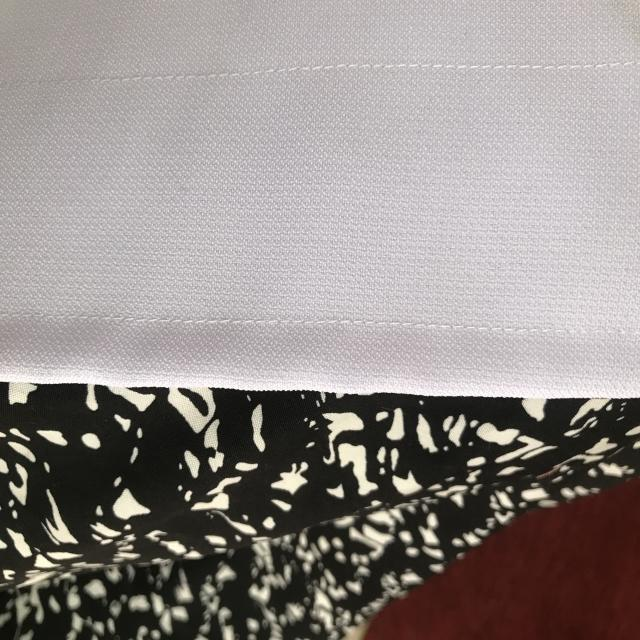good: (169, 307, 331, 341), (398, 307, 550, 343), (351, 54, 496, 91), (128, 63, 278, 86), (528, 51, 618, 88)
